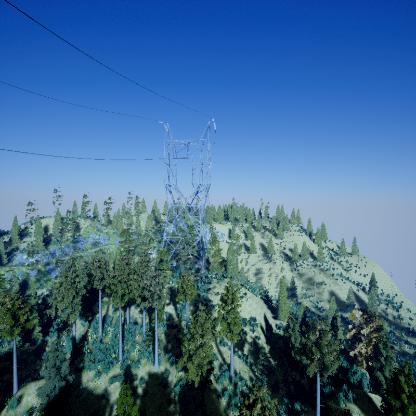tower: (156, 112, 219, 278)
